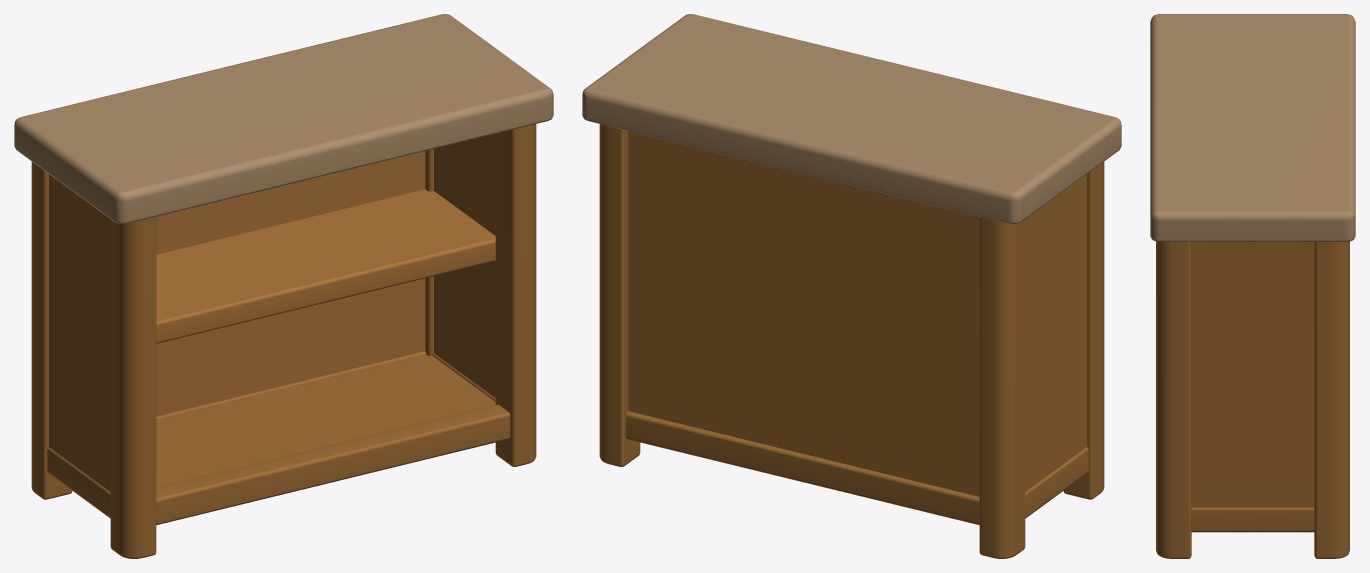
The model's file is SM_Shelf_Wood_01_Base.fbx.
The picture shows the model from 3 angles, left to right: view 1: azimuth 30°, elevation 25°; view 2: azimuth 150°, elevation 25°; view 3: azimuth 270°, elevation 25°; orthographic projection. The views are drawn at different scales.
Parts seen in each view (by area): view 1: Cube.008, Cube, Cube.007, Cube.009, Cube.010; view 2: Cube.009, Cube.008, Cube, Cube.007; view 3: Cube.008, Cube.007, Cube.
Part boxes in pixels (box(x1,y1,x2,y2)): Cube.008: box(14, 14, 553, 223); Cube: box(31, 124, 536, 558); Cube.007: box(49, 134, 495, 491); Cube.009: box(156, 151, 425, 416); Cube.010: box(156, 189, 495, 343); Cube.009: box(628, 131, 979, 496); Cube.008: box(582, 14, 1121, 223); Cube: box(599, 124, 1104, 558); Cube.007: box(1025, 174, 1086, 491); Cube.008: box(1150, 14, 1355, 241); Cube.007: box(1191, 242, 1314, 507); Cube: box(1156, 241, 1349, 558).
Bounding box in the file's own units: 148 × 120 × 63.49.
